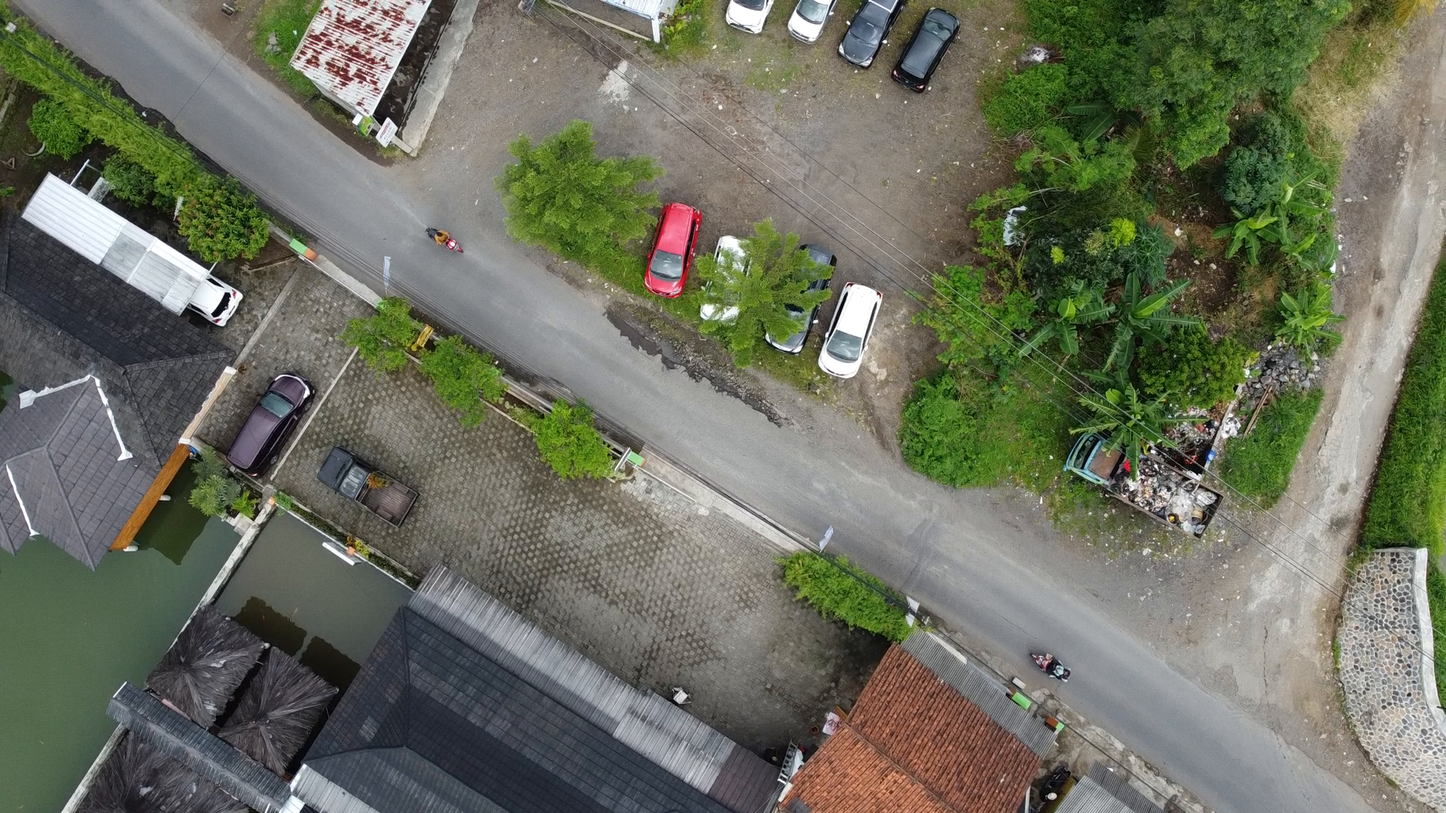mobil: (315, 436, 426, 527), (221, 367, 316, 469), (763, 239, 845, 355), (821, 274, 884, 383), (698, 224, 760, 333), (891, 11, 963, 91), (640, 193, 694, 294), (831, 1, 892, 75), (175, 276, 250, 322)
